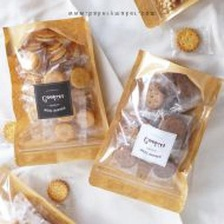snack: (83, 44, 224, 218), (0, 10, 121, 174), (165, 20, 218, 63)
